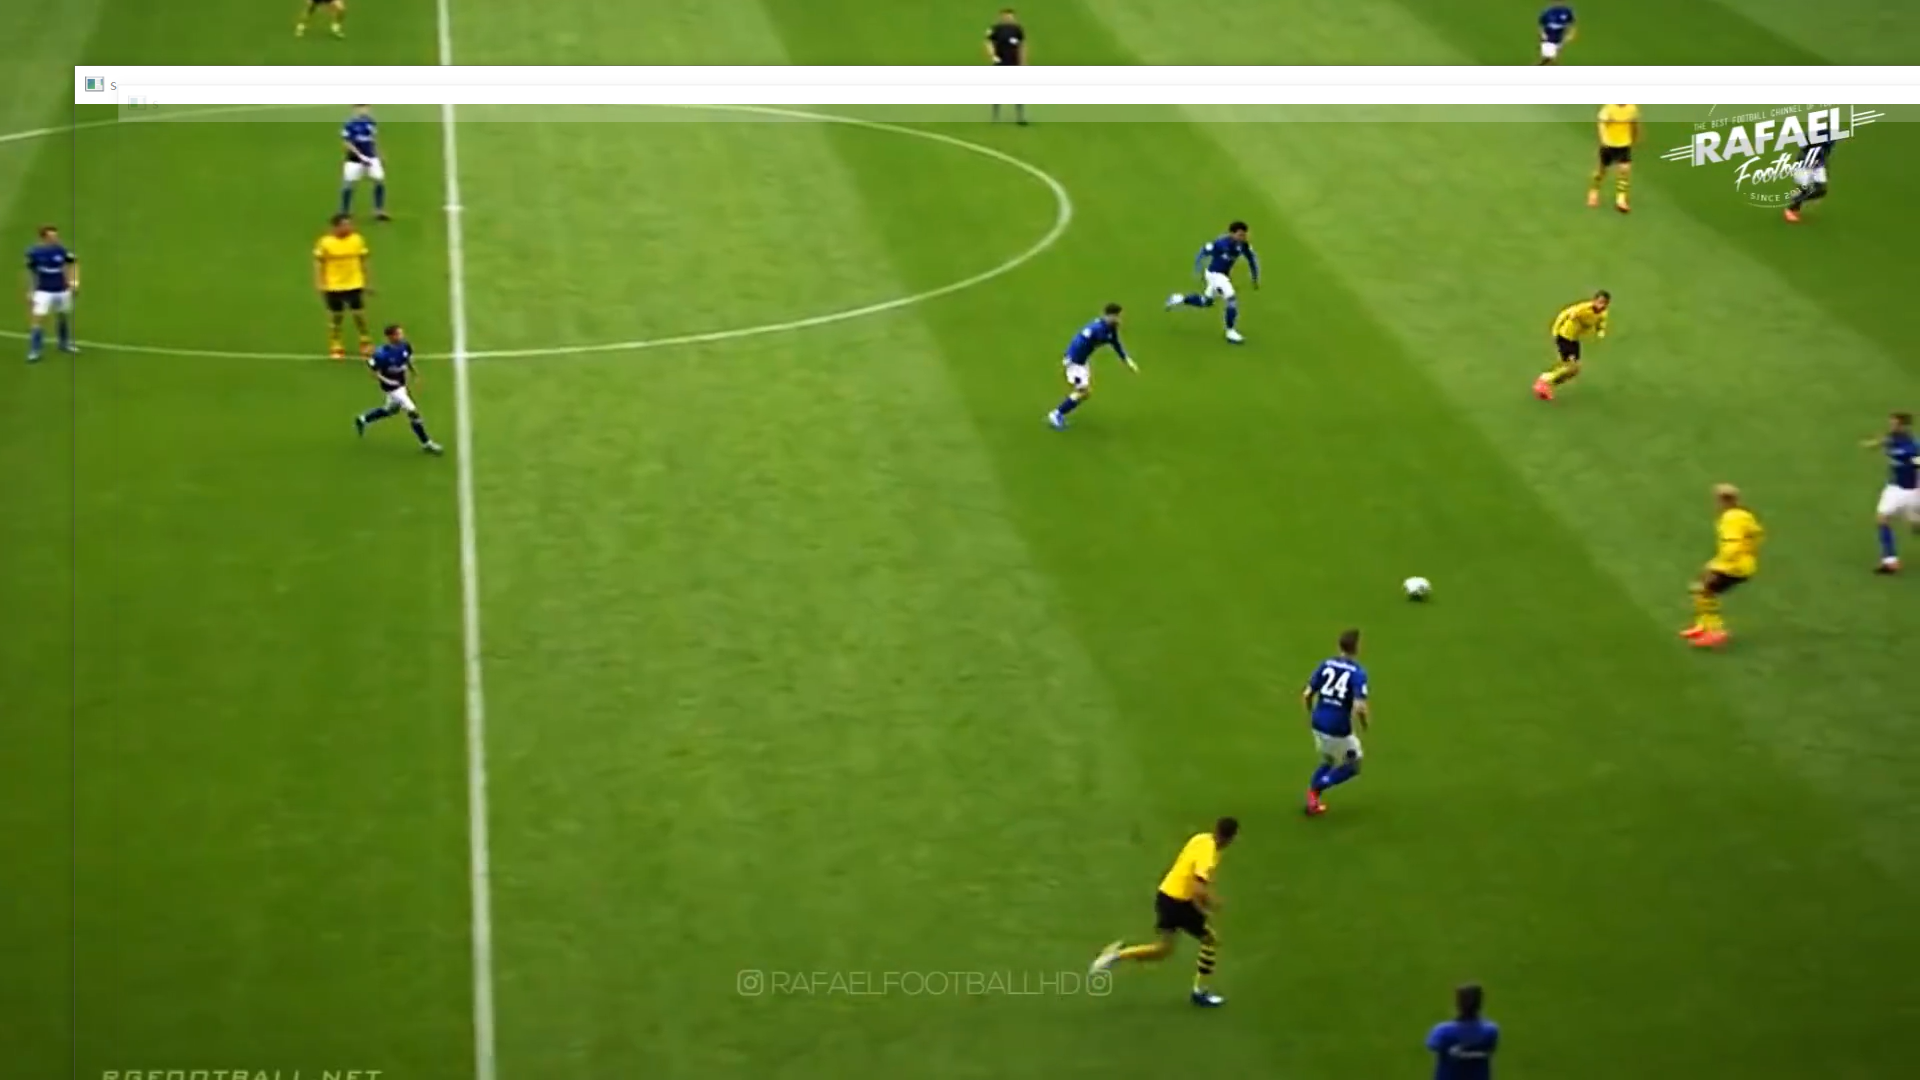ft: (1403, 574, 1437, 603)
